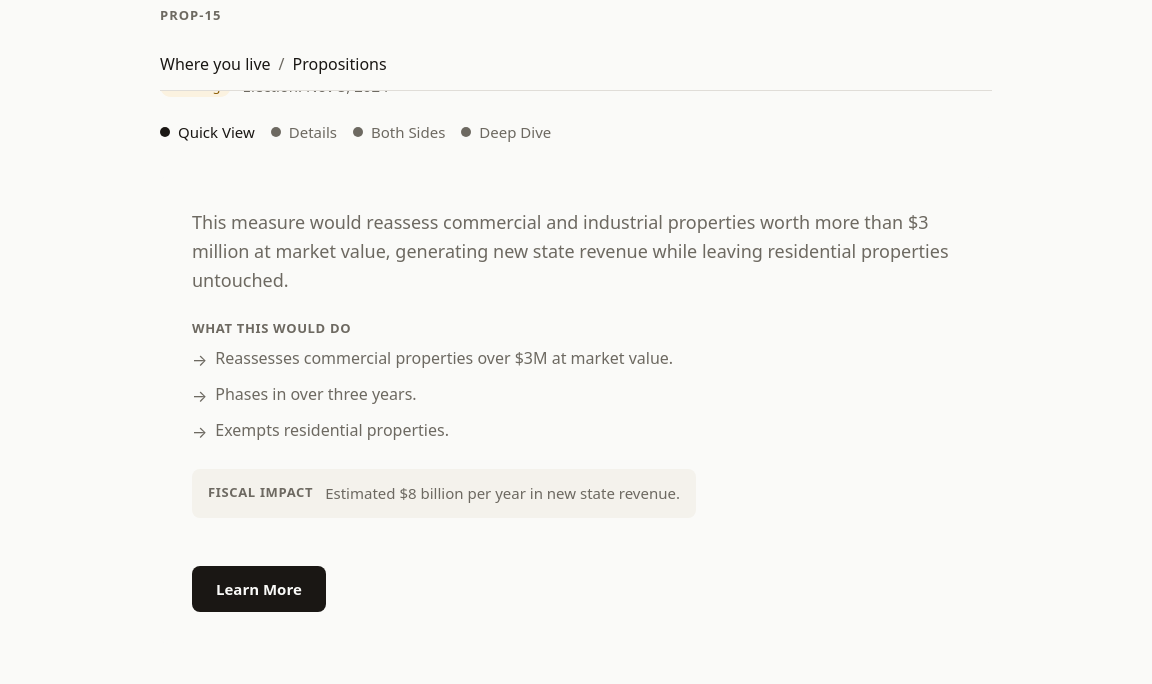
Scenario: PropositionDetailPage › Layer Navigation › should navigate to Layer 2 when Learn More is clicked
(page scrolled)
Click the button "Learn More" at coordinates (259, 589), box 192,566 -> 326,612
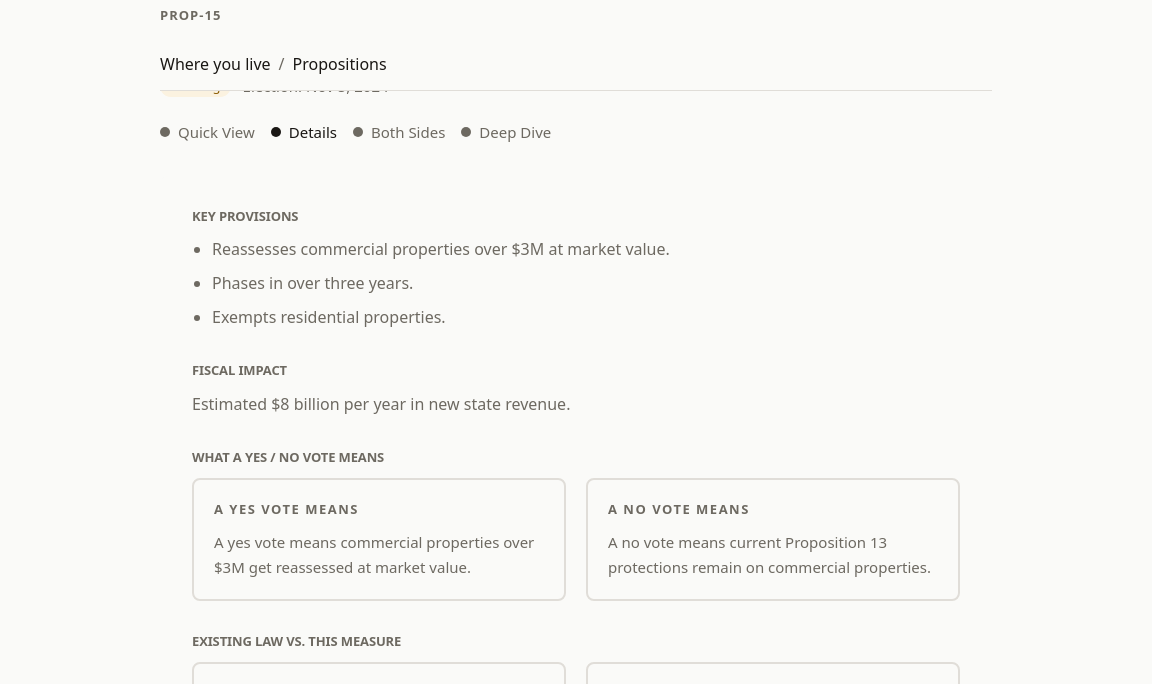
Check: the heading "Key Provisions" is shown, box 192,207 -> 298,225
